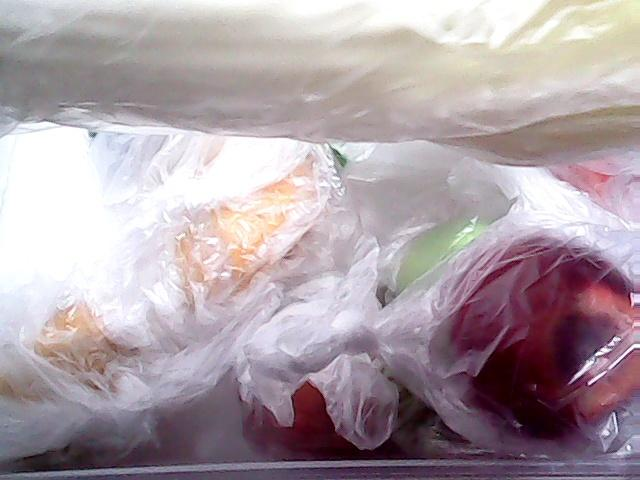apple: (392, 206, 640, 446)
carrot: (548, 135, 640, 209)
lemon: (162, 142, 318, 298)
napa cabbage: (0, 0, 640, 142)
peach: (240, 292, 408, 460)
potato: (0, 297, 146, 427)
